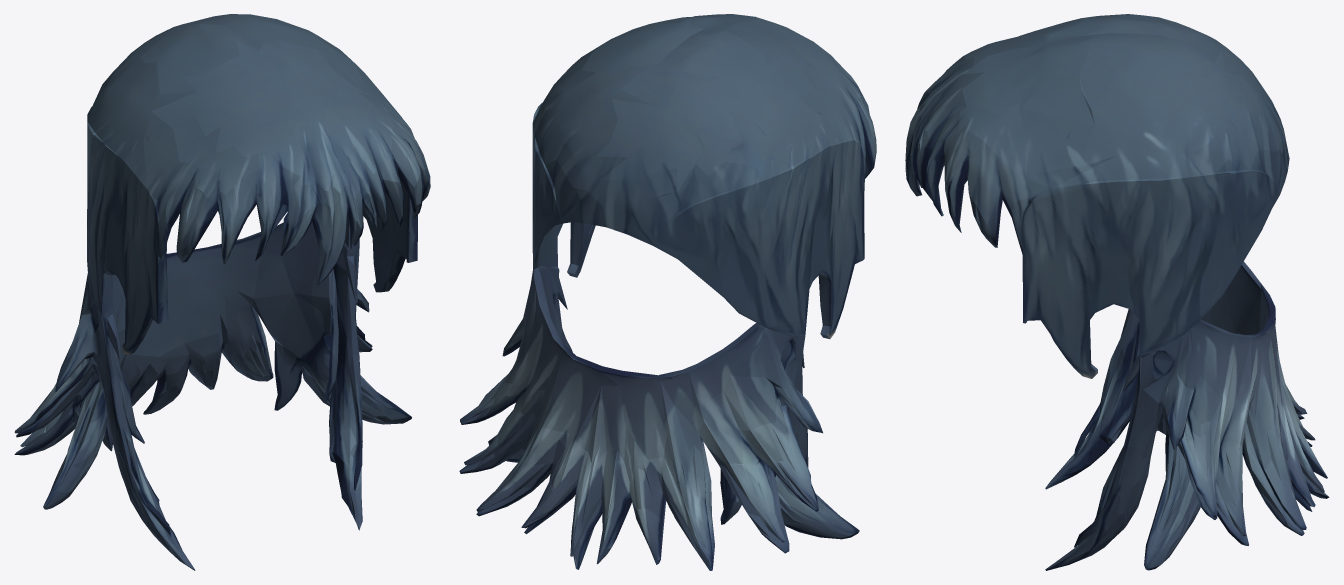
The model's file is nerith_m-meche-3-mi-longs-calotte.glb.
3 views of the same model, side by side, from view 1: azimuth 30°, elevation 25°; view 2: azimuth 150°, elevation 25°; view 3: azimuth 270°, elevation 25° (orthographic).
Parts seen in each view (by area): view 1: geometry_0; view 2: geometry_0; view 3: geometry_0.
Boxes of the visible parts, x1,y1,x2,y2 form: geometry_0: (14,14,430,570); geometry_0: (459,14,876,570); geometry_0: (905,14,1329,570).
Bounding box in the file's own units: 1.5 × 1.91 × 1.47.
Materials: 1 (1 with a texture image).
